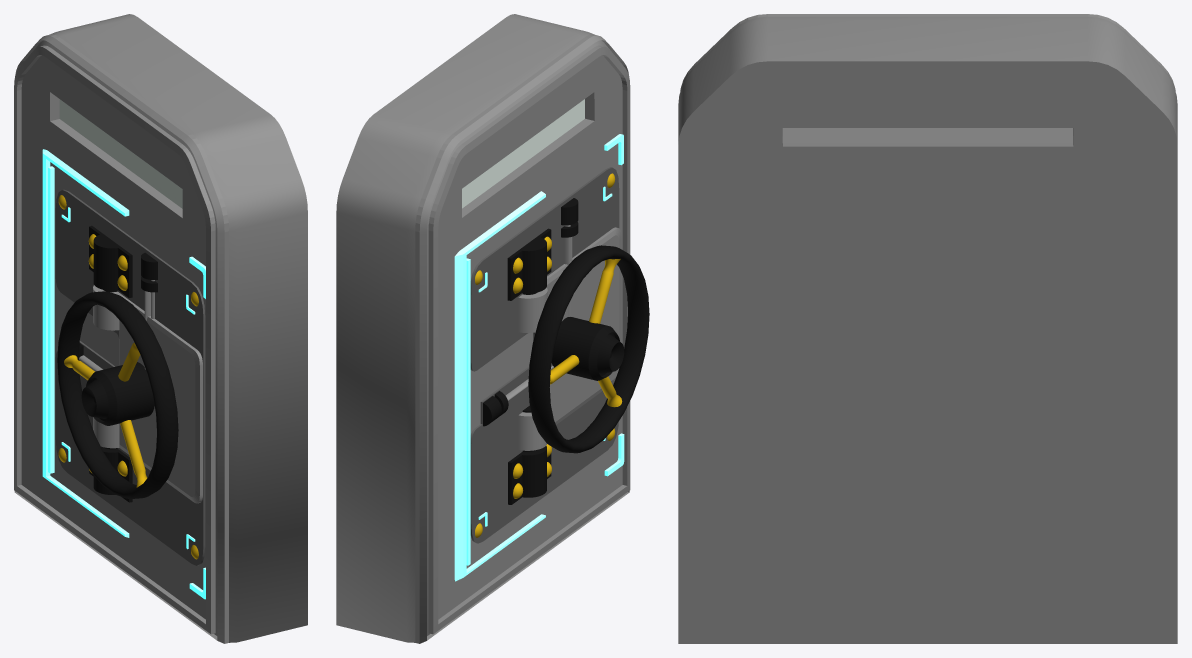
The model's file is porte_mieux.fbx.
3 views of the same model, side by side, from view 1: azimuth 30°, elevation 25°; view 2: azimuth 150°, elevation 25°; view 3: azimuth 270°, elevation 25° (orthographic). The views are drawn at different scales.
Parts seen in each view (by area): view 1: Box011, Cylinder015, Cylinder021, Cylinder019; view 2: Box011, Cylinder015, Cylinder021, Cylinder019; view 3: Box011.
Boxes of the visible parts, <box> form: Box011: <box>14,14,307,643</box>; Cylinder015: <box>57,291,178,498</box>; Cylinder021: <box>78,252,202,503</box>; Cylinder019: <box>88,225,132,502</box>; Box011: <box>336,14,630,643</box>; Cylinder015: <box>528,245,649,453</box>; Cylinder021: <box>483,198,621,450</box>; Cylinder019: <box>507,228,551,504</box>; Box011: <box>678,14,1177,643</box>.
Bounding box in the file's own units: 33.05 × 105 × 81.33.
